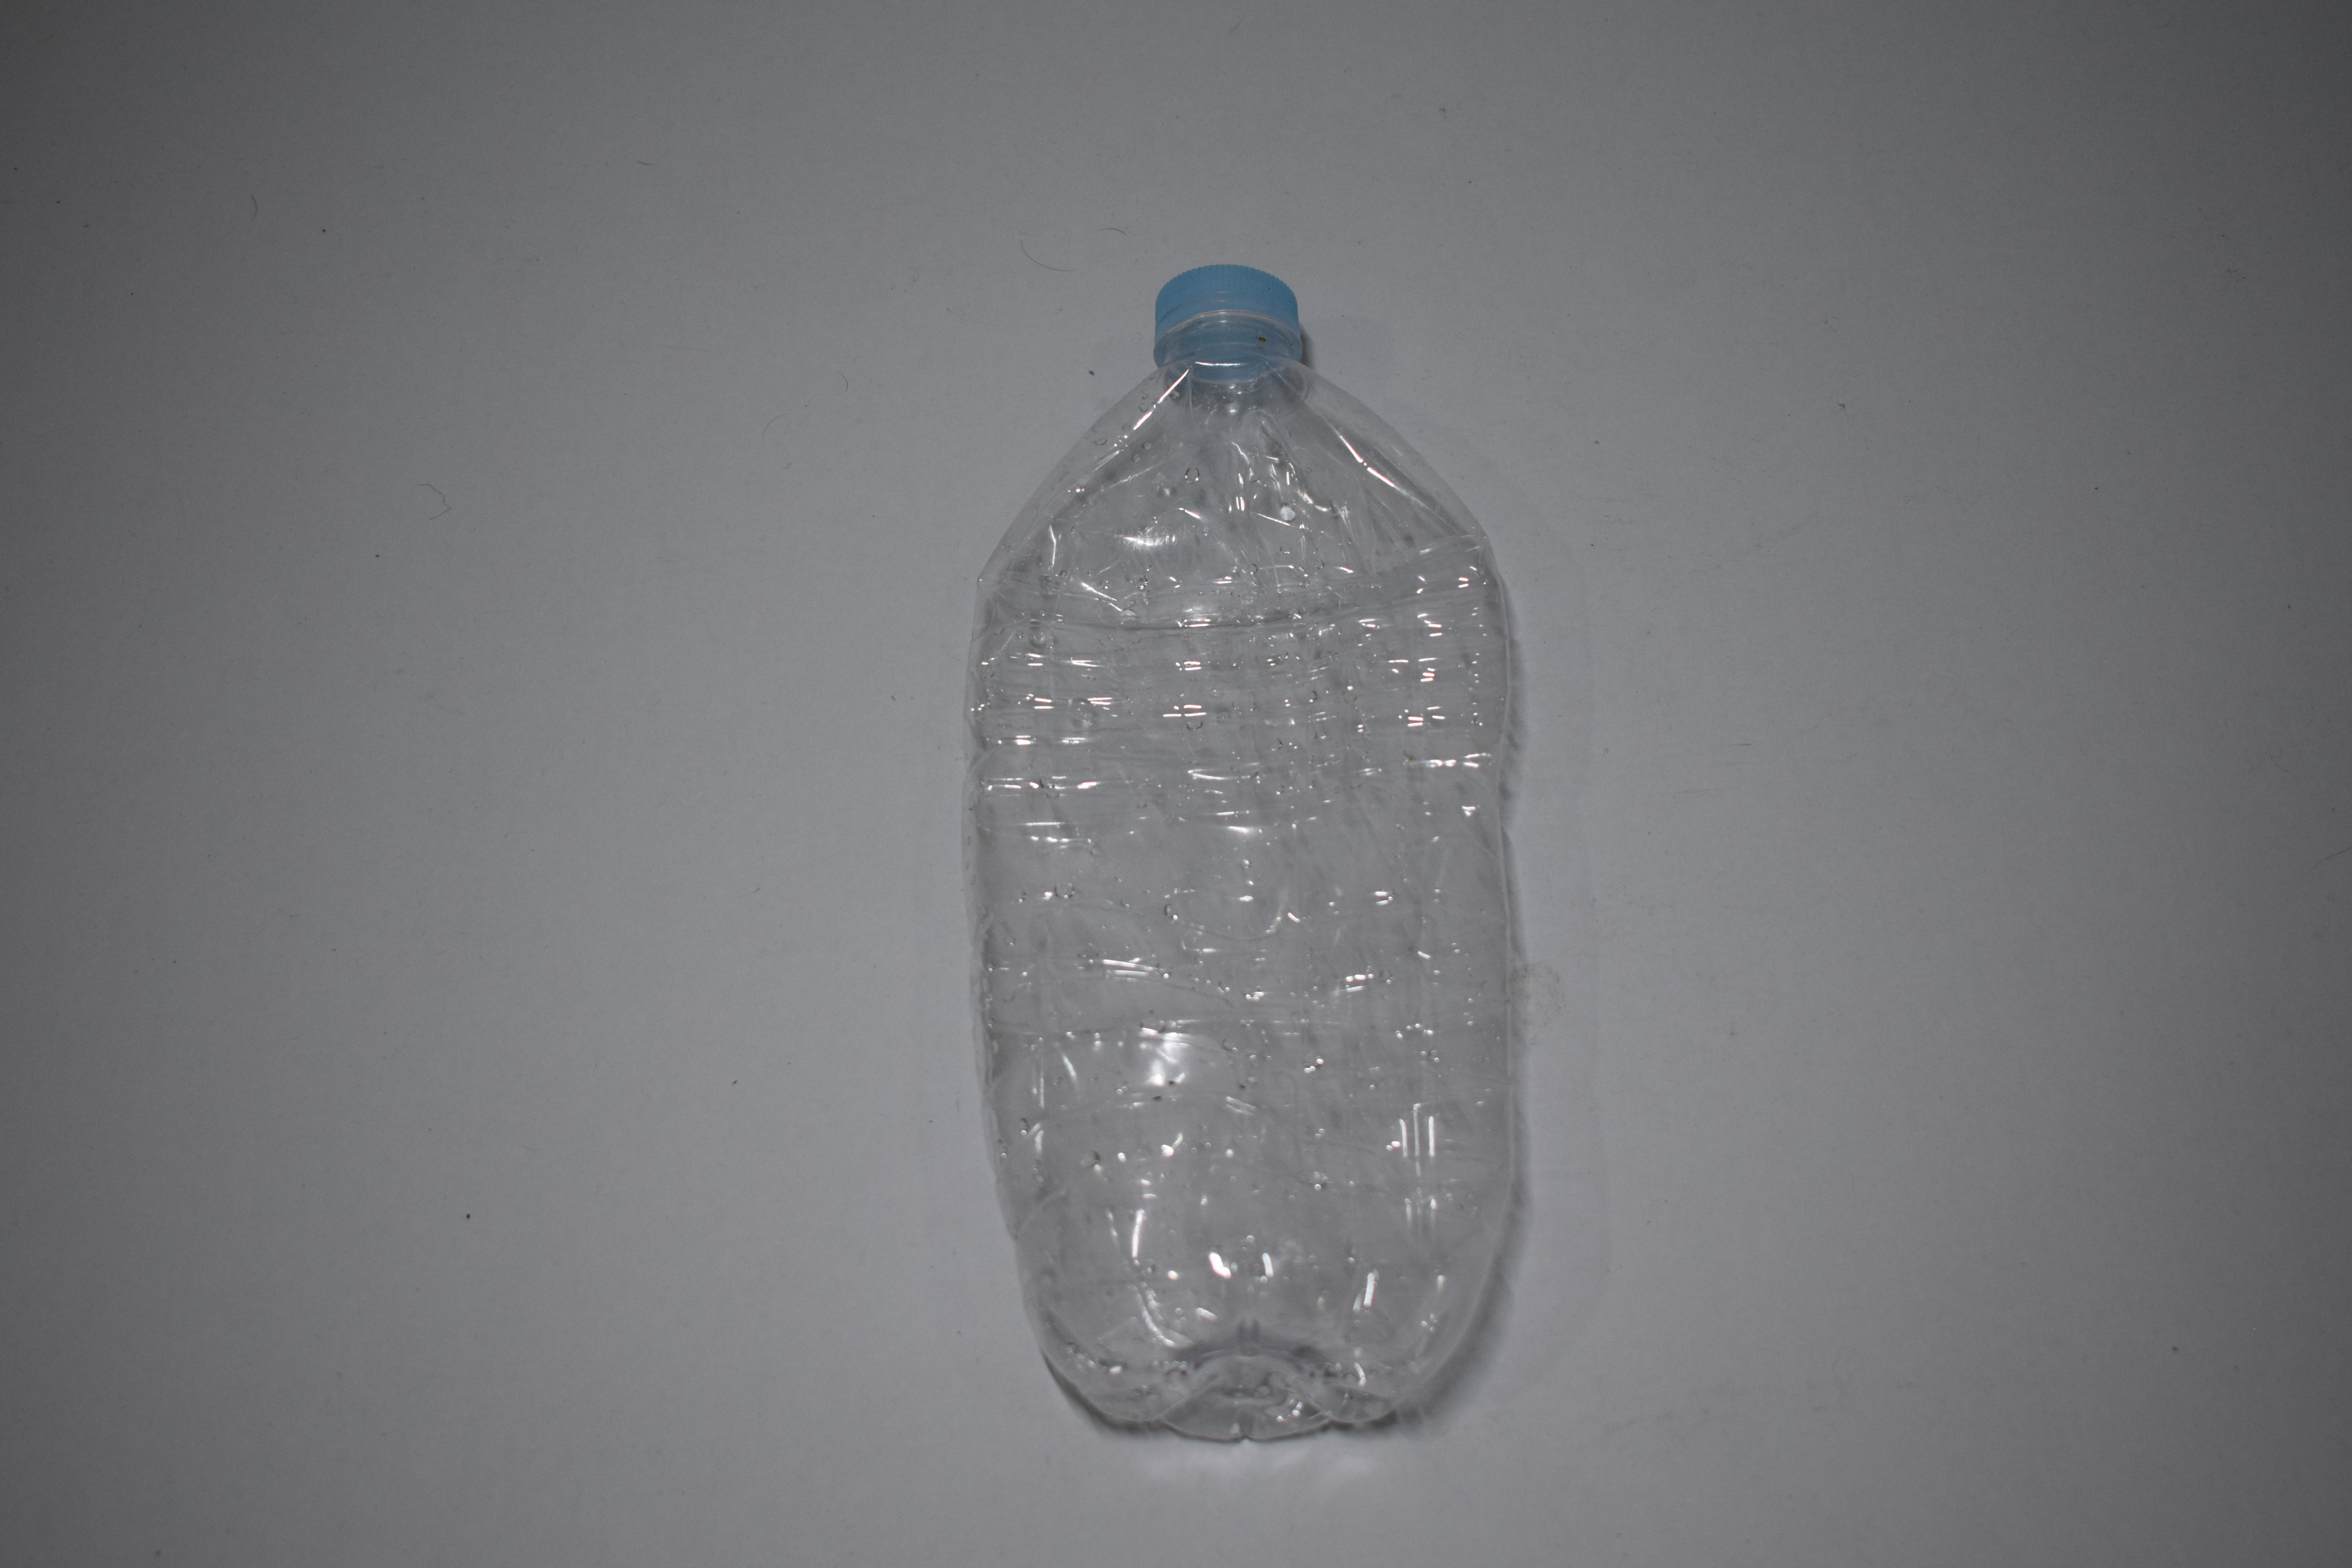bottle: (0, 0, 359, 667)
